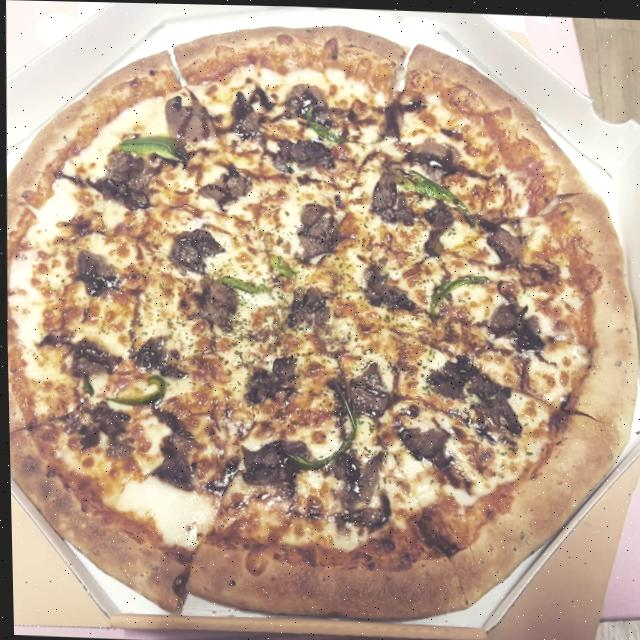pizza: (0, 5, 640, 631)
